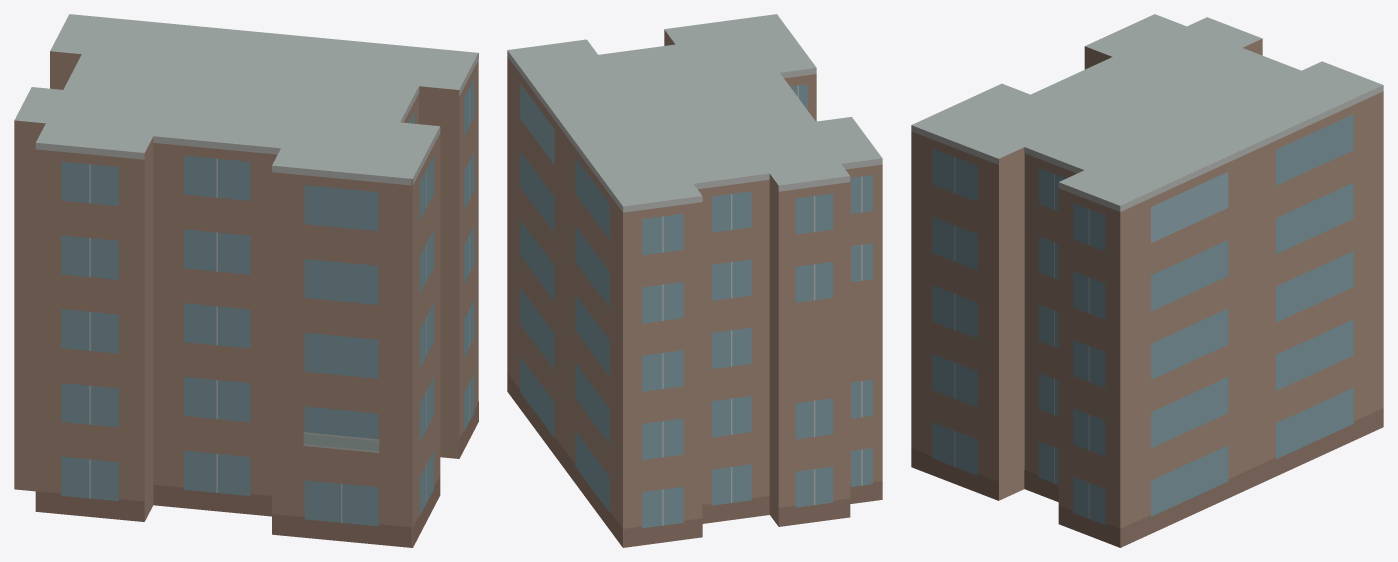
The model's file is survey-upis-32749470.glb.
3 renders of one model, left to right at view 1: azimuth 30°, elevation 25°; view 2: azimuth 150°, elevation 25°; view 3: azimuth 270°, elevation 25°, orthographic. The views are drawn at different scales.
Visible parts, largest first — view 1: survey-upis-32749470.tmp; view 2: survey-upis-32749470.tmp; view 3: survey-upis-32749470.tmp.
Part boxes in pixels (x1=…): survey-upis-32749470.tmp: x1=14, y1=14, x2=478, y2=547; survey-upis-32749470.tmp: x1=507, y1=14, x2=882, y2=547; survey-upis-32749470.tmp: x1=911, y1=14, x2=1383, y2=547.
Size of the model in its own units: 16.38 by 13.6 by 17.04.
